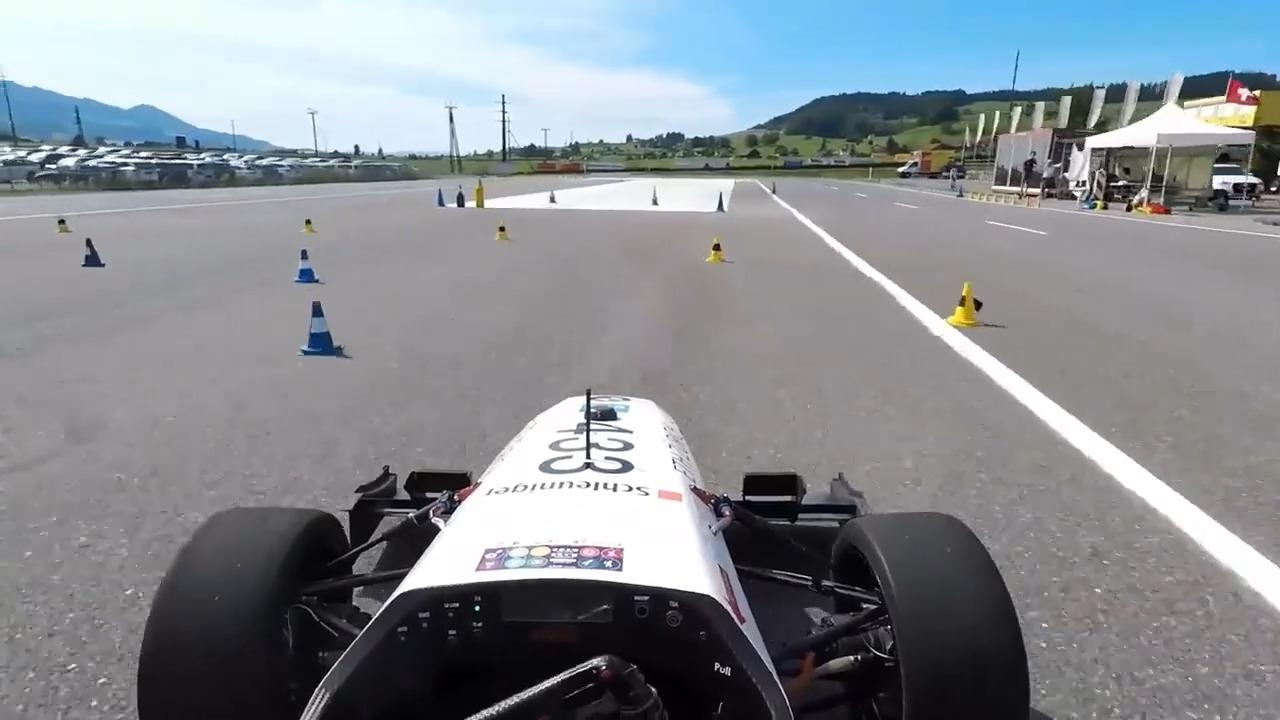blue_cone: (306, 298, 345, 348), (292, 243, 324, 284)
yellow_cone: (951, 281, 984, 329), (706, 238, 732, 263)
